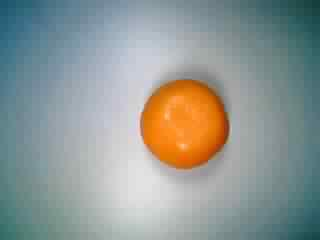orange: (136, 75, 234, 173)
